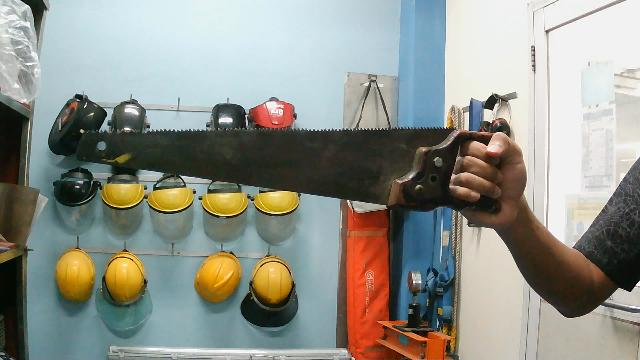gergaji_kayu: (75, 119, 509, 227)
